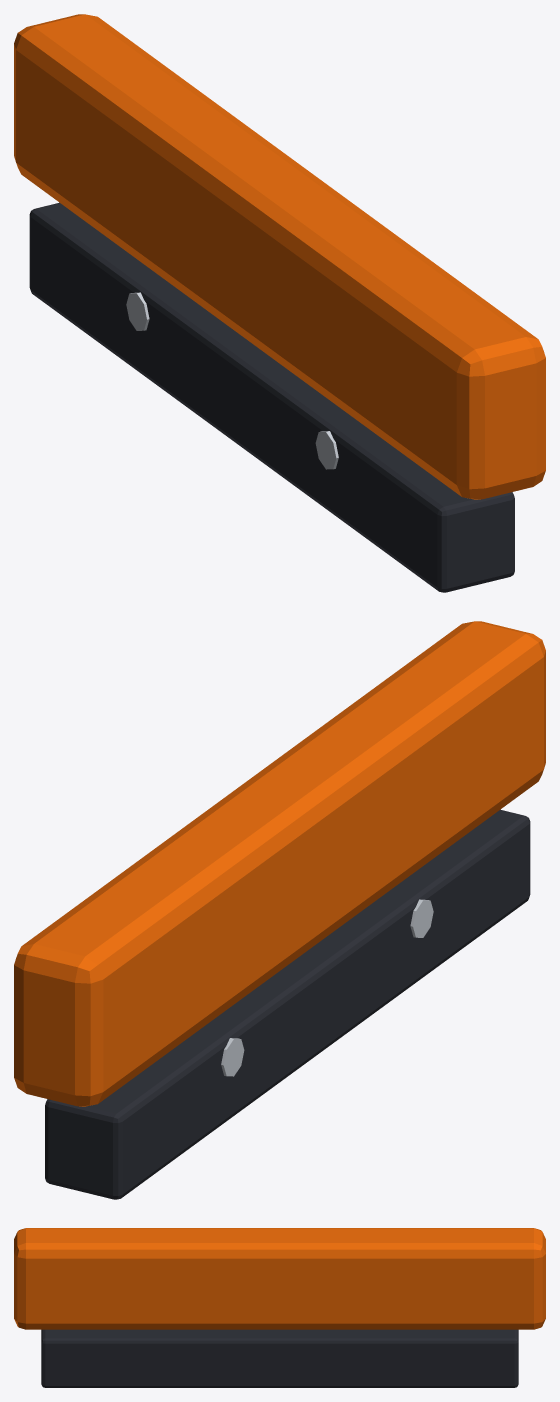
File: bumper_r.obj
3 views of the same model, one above another, from view 1: azimuth 30°, elevation 25°; view 2: azimuth 150°, elevation 25°; view 3: azimuth 270°, elevation 25° (orthographic). The views are drawn at different scales.
Visible parts, largest first — view 1: Cube; view 2: Cube; view 3: Cube.
Boxes of the visible parts, bbox=[...] form: Cube: bbox=[14, 14, 545, 592]; Cube: bbox=[14, 621, 545, 1199]; Cube: bbox=[14, 1228, 545, 1387].
Bounding box in the file's own units: 0.18 × 0.47 × 1.56.
